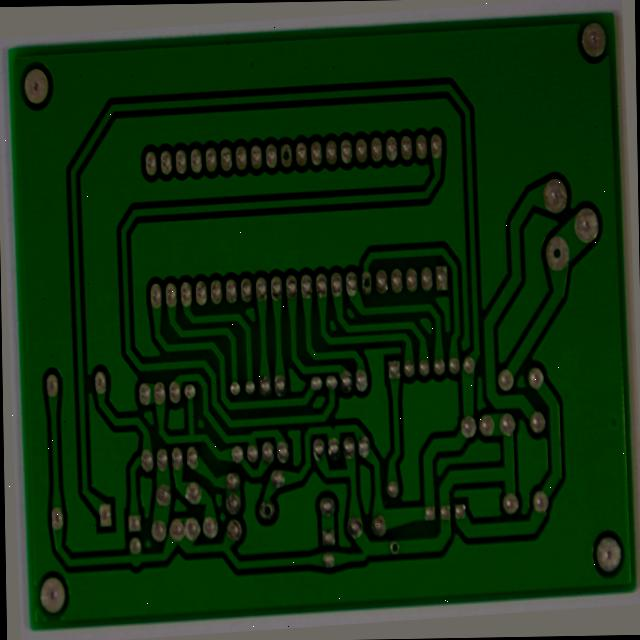missing_hole: (550, 241, 577, 280), (280, 125, 297, 159), (359, 267, 375, 295), (250, 506, 269, 529), (382, 551, 398, 573)
